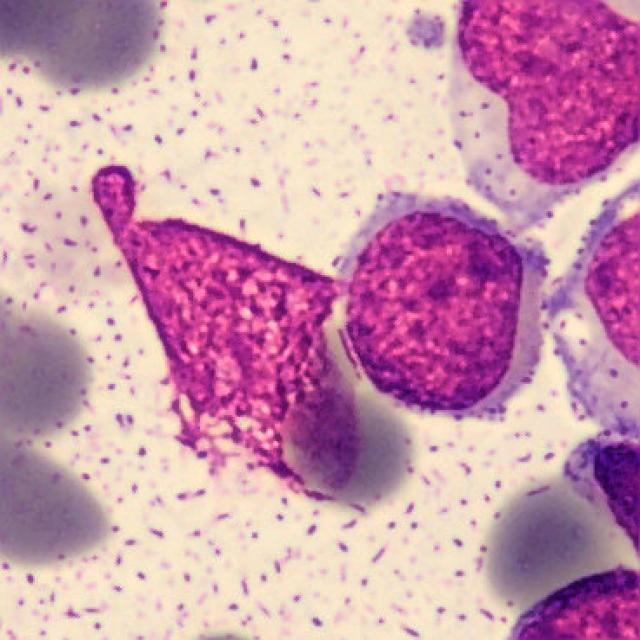Mieloblasto: (346, 204, 541, 419), (449, 0, 640, 214)
Restos celulares: (90, 166, 388, 503)
